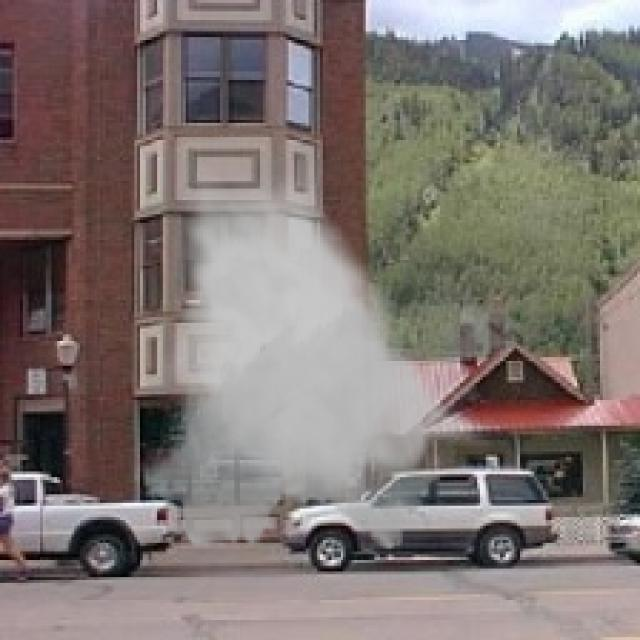smoke: (131, 163, 526, 560)
